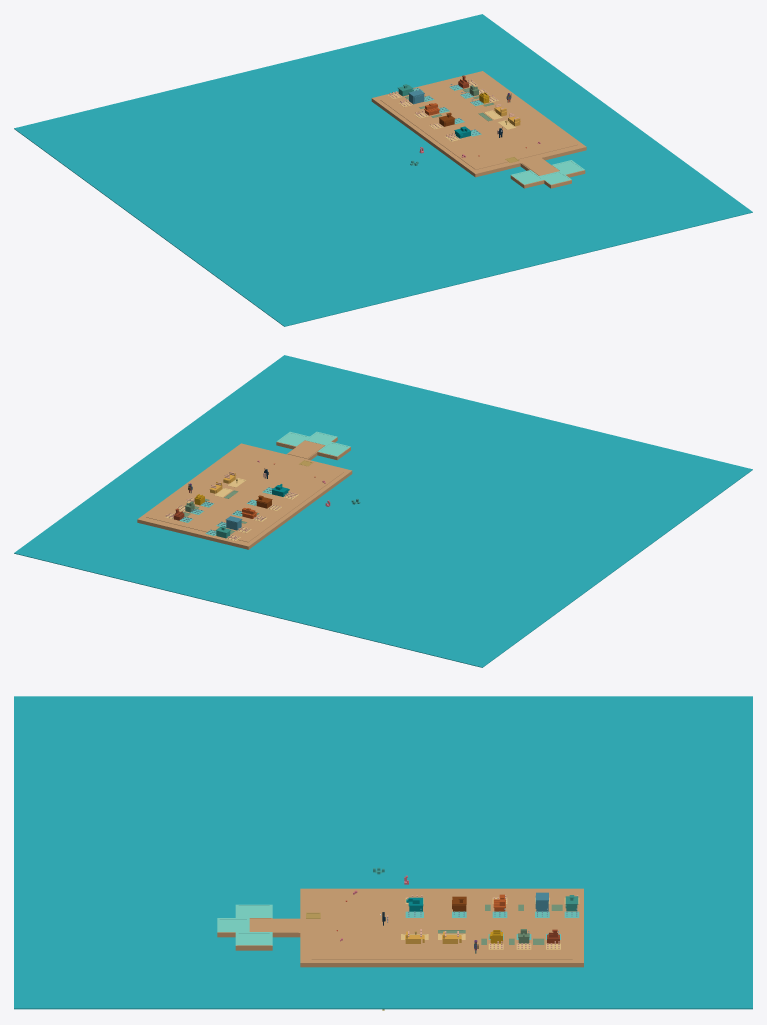
The model's file is coral_lagoon_blockout.glb.
The picture shows the model from 3 angles, top to bottom: view 1: azimuth 30°, elevation 25°; view 2: azimuth 150°, elevation 25°; view 3: azimuth 270°, elevation 25°; orthographic projection. The views are drawn at different scales.
Visible parts, largest first — view 1: Water, Ground_cl_land, Ground_cl_pier; view 2: Water, Ground_cl_land; view 3: Water, Ground_cl_land, Ground_cl_pier, Zone_cl_east, Zone_cl_west.
Boxes of the visible parts, x1=… form: Water: x1=14, y1=14, x2=752, y2=326; Ground_cl_land: x1=371, y1=71, x2=586, y2=177; Ground_cl_pier: x1=520, y1=157, x2=571, y2=188; Water: x1=14, y1=355, x2=752, y2=667; Ground_cl_land: x1=137, y1=443, x2=352, y2=549; Water: x1=14, y1=696, x2=752, y2=1009; Ground_cl_land: x1=300, y1=888, x2=583, y2=967; Ground_cl_pier: x1=217, y1=918, x2=302, y2=937; Zone_cl_east: x1=235, y1=932, x2=272, y2=945; Zone_cl_west: x1=235, y1=904, x2=272, y2=917.
Size of the model in its own units: 80 by 11.84 by 80.
